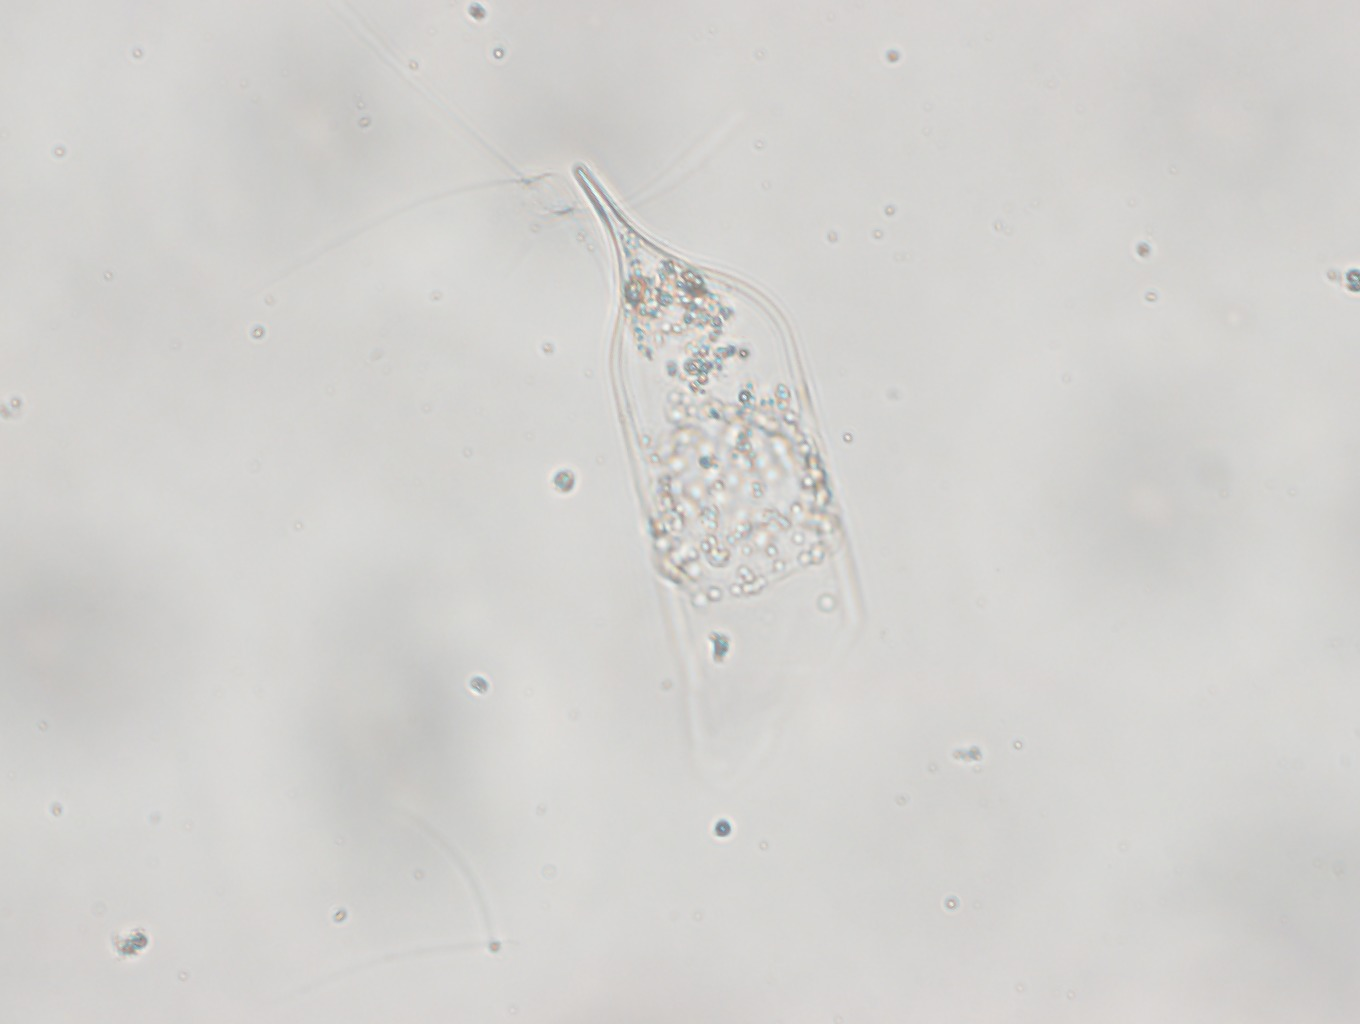rhizosolenia: (567, 161, 872, 806)
